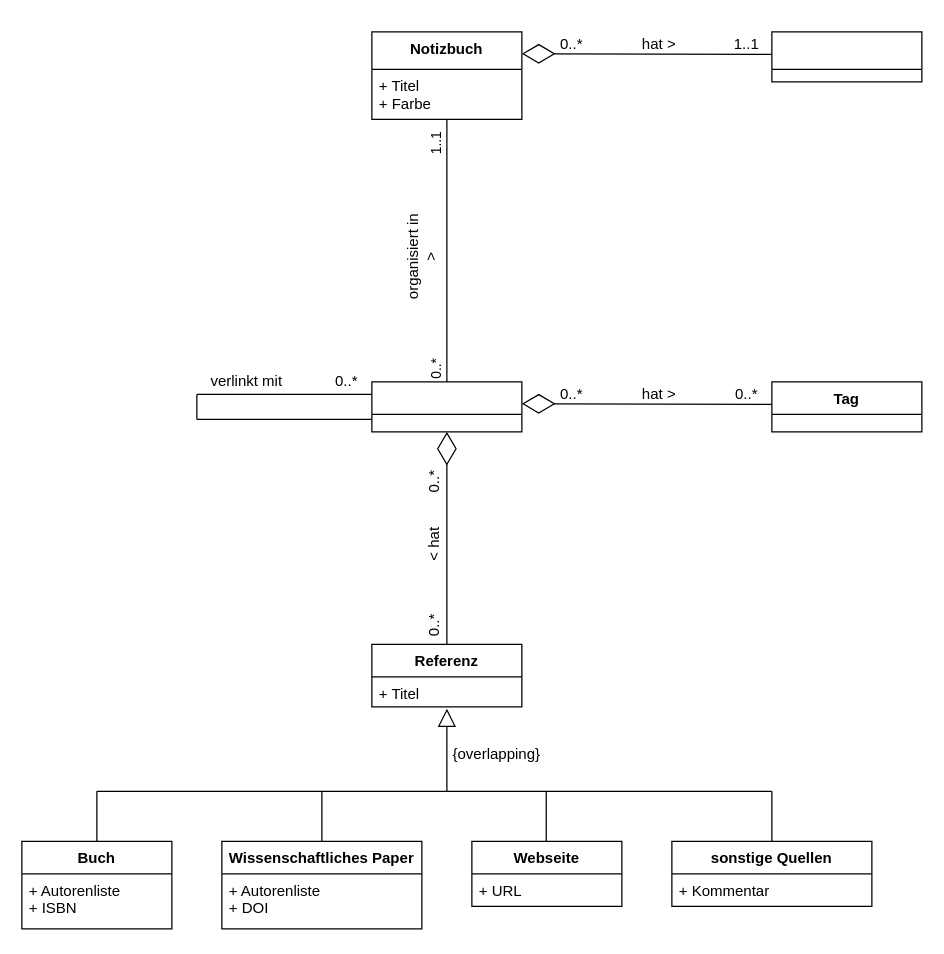
The diagram is 944 pixels wide and 954 high, and some of its shapes have lost their labels. Each missing label, with the centre of its shape:
Notiz: the point at 446,406
Thema: the point at 846,56
